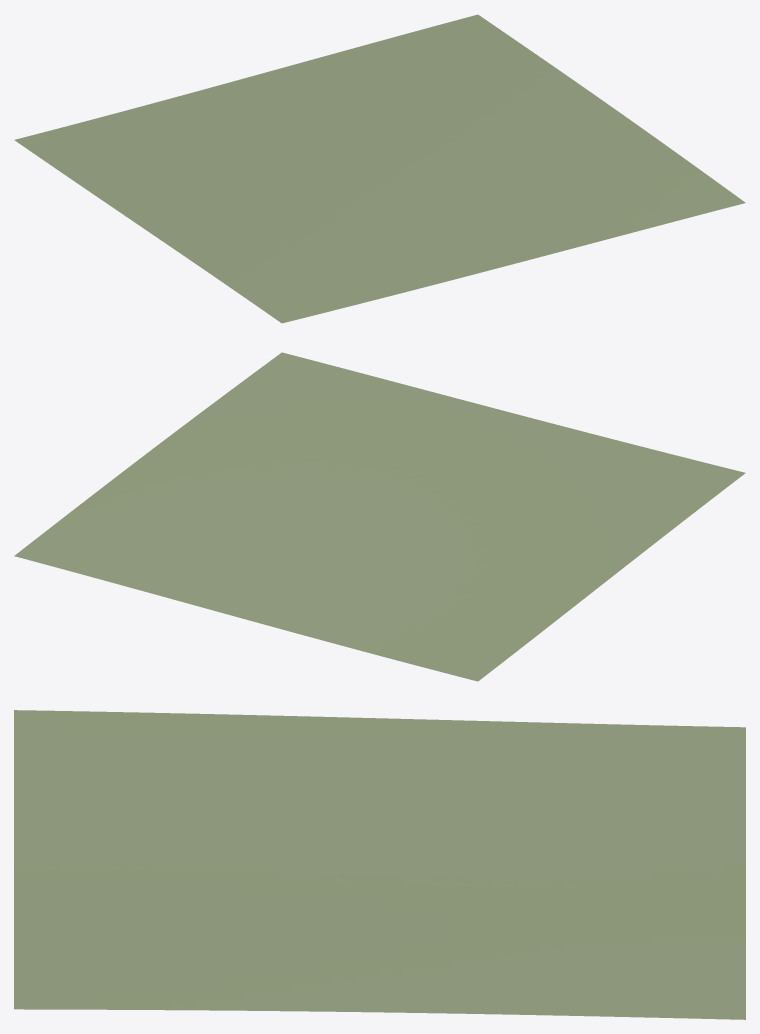
File: expanse-7-18.glb
3 views of the same model, one above another, from view 1: azimuth 30°, elevation 25°; view 2: azimuth 150°, elevation 25°; view 3: azimuth 270°, elevation 25° (orthographic). The views are drawn at different scales.
Parts seen in each view (by area): view 1: expanse-7-18; view 2: expanse-7-18; view 3: expanse-7-18.
Part boxes in pixels (box(x1,y1,x2,y2)): expanse-7-18: box(14, 14, 745, 323); expanse-7-18: box(14, 352, 745, 681); expanse-7-18: box(14, 710, 745, 1019).
Bounding box in the file's own units: 256 × 10.49 × 256.
